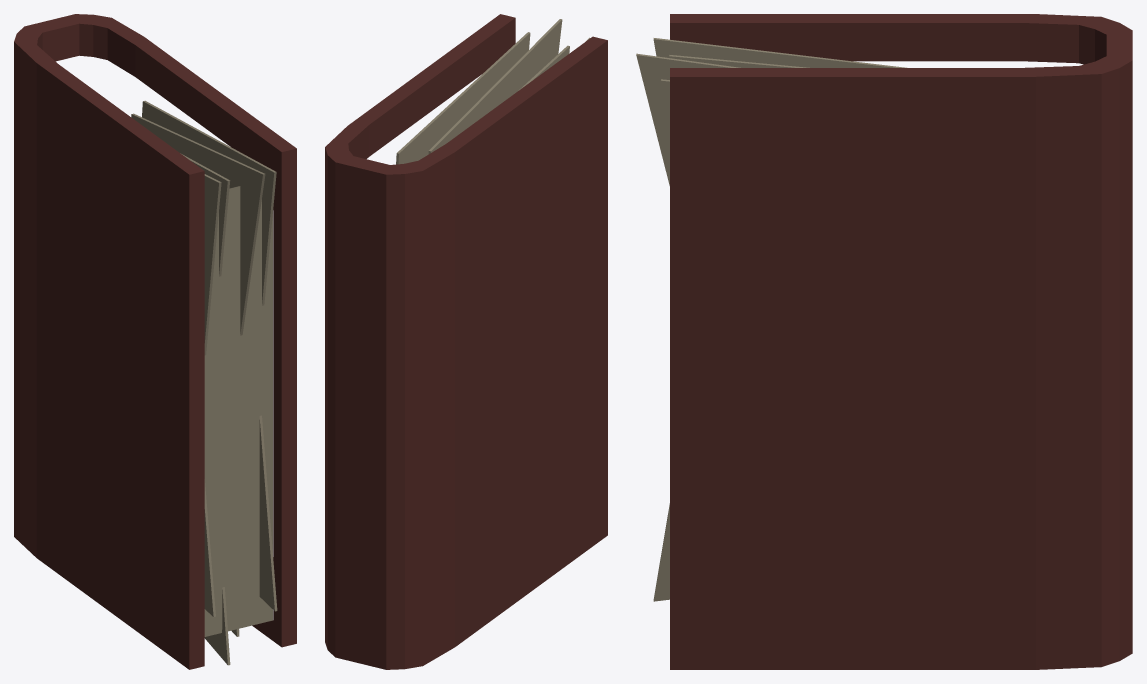
File: book-closed.glb
The picture shows the model from 3 angles, left to right: view 1: azimuth 30°, elevation 25°; view 2: azimuth 150°, elevation 25°; view 3: azimuth 270°, elevation 25°; orthographic projection. The views are drawn at different scales.
Visible parts, largest first — view 1: Book1_Closed; view 2: Book1_Closed; view 3: Book1_Closed.
Boxes of the visible parts, left/top/right/bottom form: Book1_Closed: left=14, top=14, right=296, bottom=669; Book1_Closed: left=325, top=14, right=607, bottom=669; Book1_Closed: left=636, top=14, right=1132, bottom=669.
Bounding box in the file's own units: 0.1795 × 0.802 × 0.5993.
